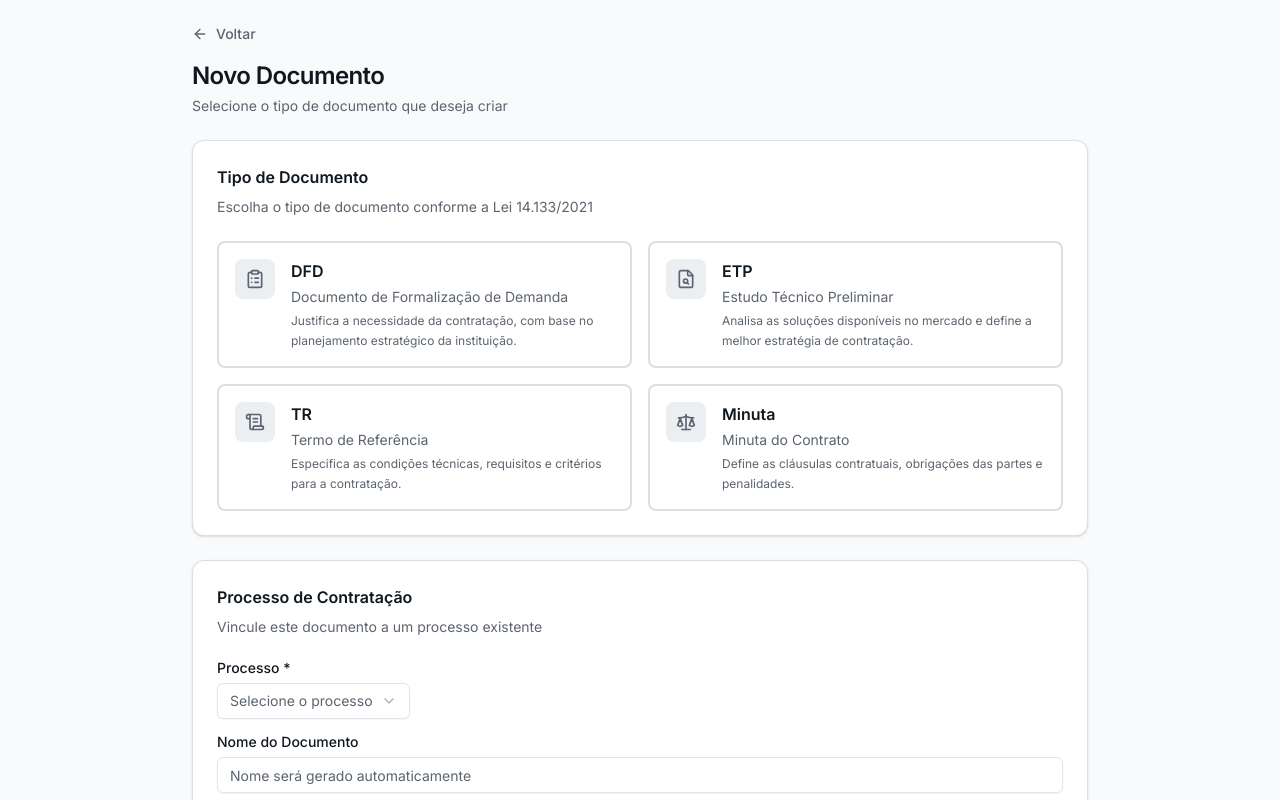
Test: DocumentCreatePage › 4.3 – Picker states › falls back to an object-derived picker label when title is blank
Click the dropdown. click: (313, 701)
box: [217, 683, 410, 719]
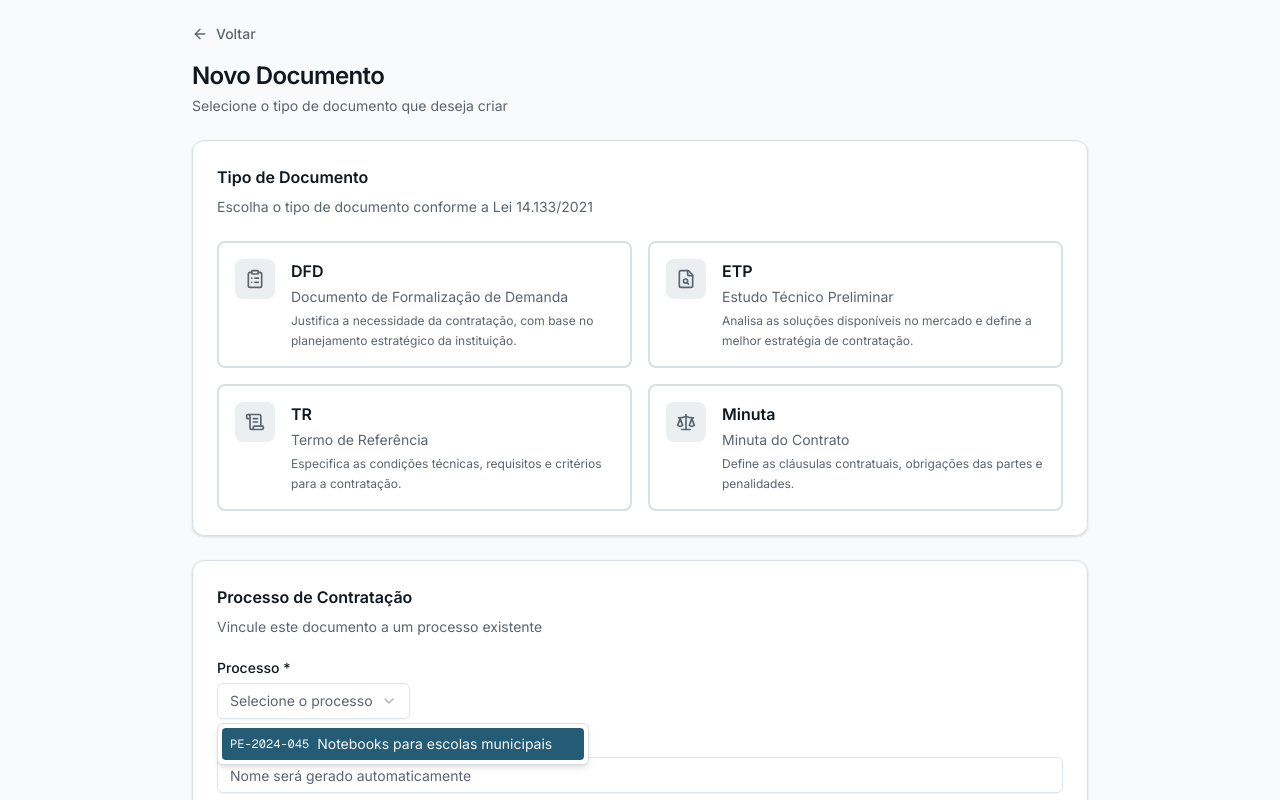
Result: the text "Notebooks para escolas municipais" is shown at [317, 734, 552, 754]
